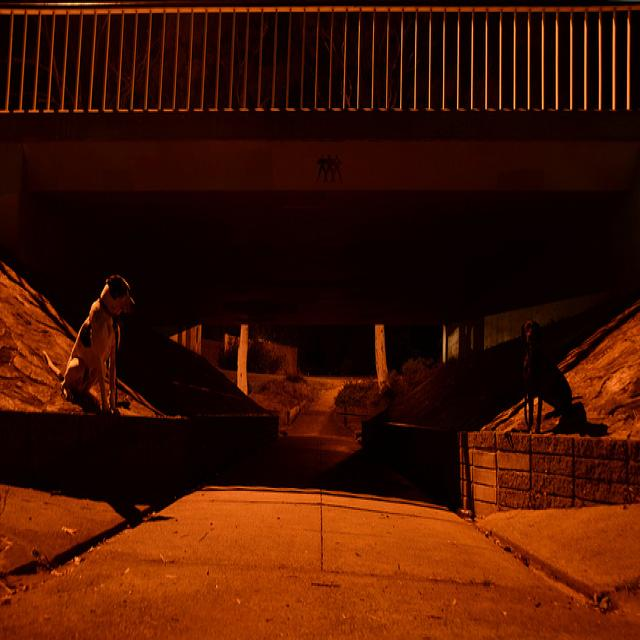Dog: (68, 258, 154, 447), (493, 307, 599, 451)
